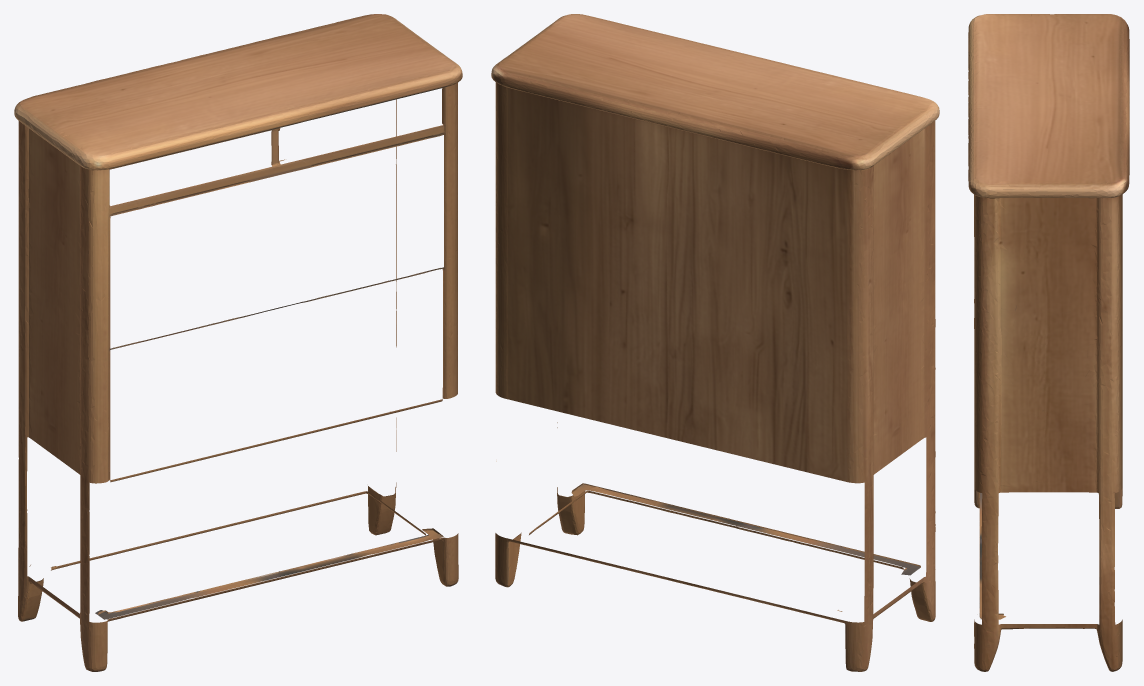
The model's file is body.glb.
3 views of the same model, side by side, from view 1: azimuth 30°, elevation 25°; view 2: azimuth 150°, elevation 25°; view 3: azimuth 270°, elevation 25° (orthographic). The views are drawn at different scales.
Parts seen in each view (by area): view 1: source_surface_0; view 2: source_surface_0; view 3: source_surface_0.
Part boxes in pixels (<box>): source_surface_0: <box>14,14,462,671</box>; source_surface_0: <box>491,14,939,671</box>; source_surface_0: <box>968,14,1129,671</box>.
Size of the model in its own units: 0.9236 by 1.2 by 0.3585.
1 material, 1 textured.
